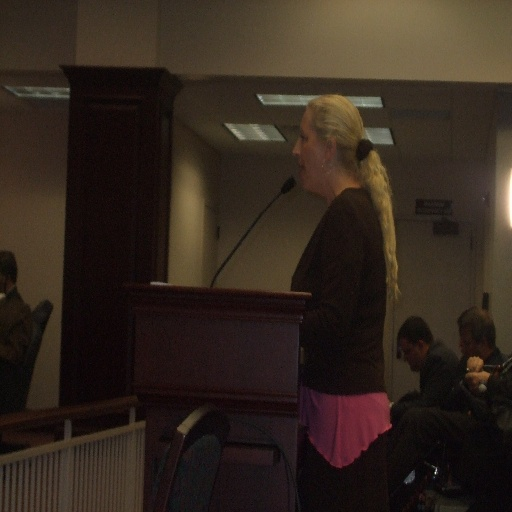hand: (462, 353, 487, 374), (472, 369, 488, 387)
